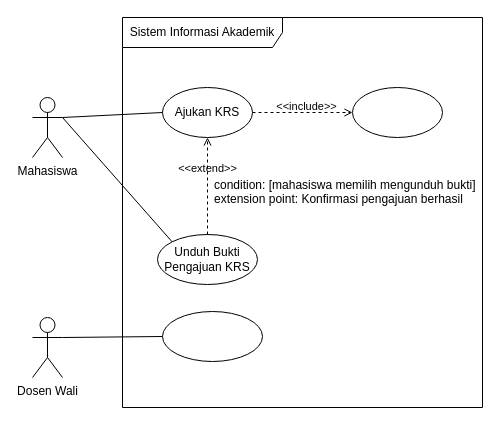
Some shapes in this 500 by 425 pixel diagram are drawn without their labels. Here are the shapes that lost their labels. From the top down, the centre of each, then its label:
the point at 397,112: Validasi KRS
the point at 212,336: Proses Keputusan KRS
